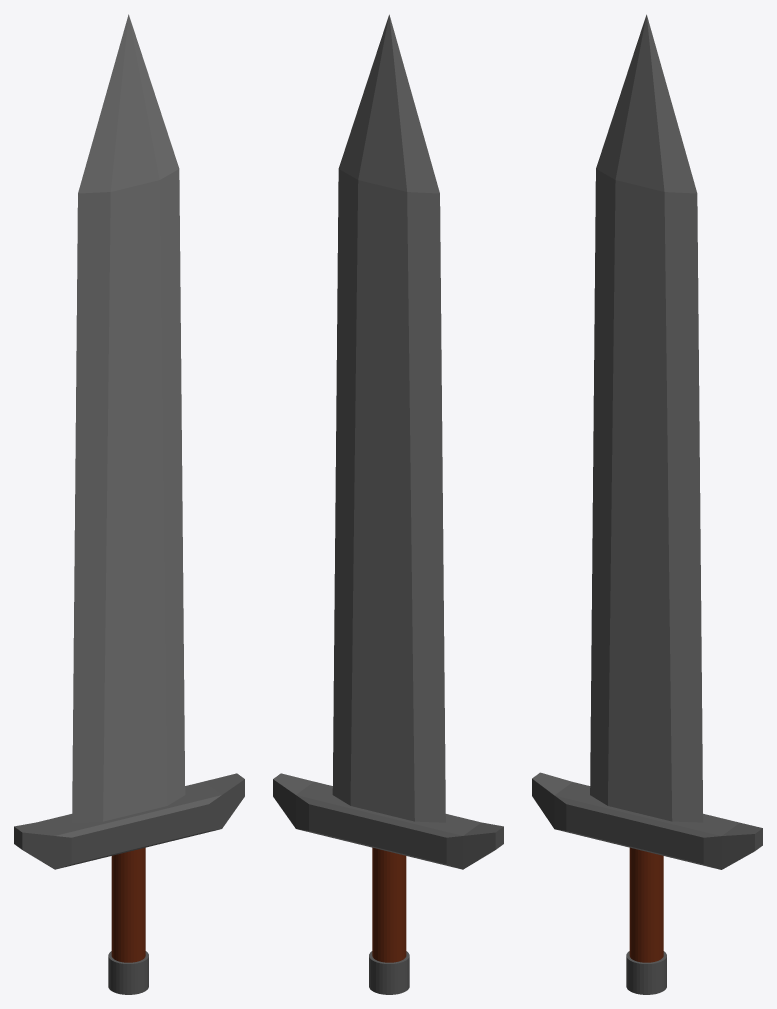
File: stone_sword.glb
3 renders of one model, left to right at view 1: azimuth 30°, elevation 25°; view 2: azimuth 150°, elevation 25°; view 3: azimuth 330°, elevation 25°, orthographic.
Visible parts, largest first — view 1: Cube.001, Cube, Cylinder.001, Cylinder; view 2: Cube.001, Cube, Cylinder.001, Cylinder; view 3: Cube.001, Cube, Cylinder.001, Cylinder.
Boxes of the visible parts, box(x1,y1,x2,y2) form: Cube.001: box(72, 14, 185, 822); Cube: box(14, 773, 244, 869); Cylinder.001: box(111, 847, 145, 962); Cylinder: box(108, 951, 148, 994); Cube.001: box(332, 14, 445, 822); Cube: box(273, 773, 503, 869); Cylinder.001: box(372, 847, 406, 962); Cylinder: box(369, 951, 409, 994); Cube.001: box(590, 14, 703, 822); Cube: box(532, 772, 762, 869); Cylinder.001: box(629, 847, 663, 962); Cylinder: box(626, 951, 666, 994).
Bounding box in the file's own units: 1.6 × 6.65 × 0.2873.
